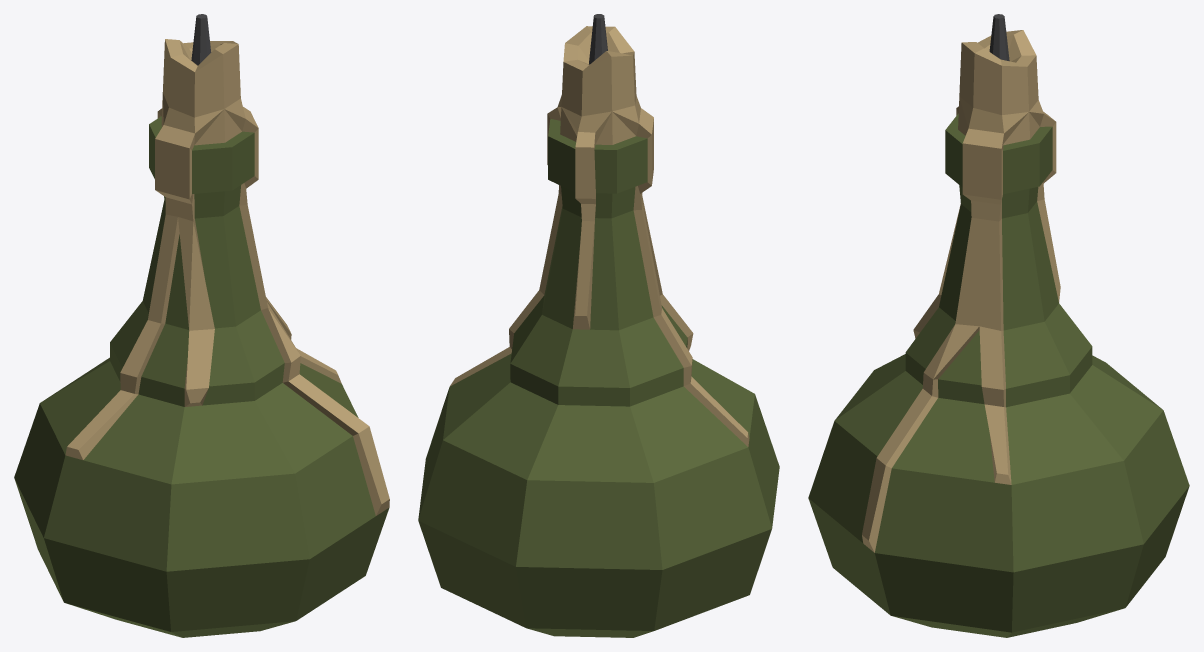
The model's file is SM_Item_Bottle_Candle_02.glb.
The picture shows the model from 3 angles, left to right: view 1: azimuth 30°, elevation 25°; view 2: azimuth 150°, elevation 25°; view 3: azimuth 270°, elevation 25°; orthographic projection.
Visible parts, largest first — view 1: SM_Item_Bottle_Candle_02; view 2: SM_Item_Bottle_Candle_02; view 3: SM_Item_Bottle_Candle_02.
Boxes of the visible parts, <box> form: SM_Item_Bottle_Candle_02: <box>14,14,389,637</box>; SM_Item_Bottle_Candle_02: <box>418,14,779,637</box>; SM_Item_Bottle_Candle_02: <box>808,14,1189,637</box>.
Size of the model in its own units: 0.00199 by 0.00333 by 0.00199.
1 material, 1 textured.
